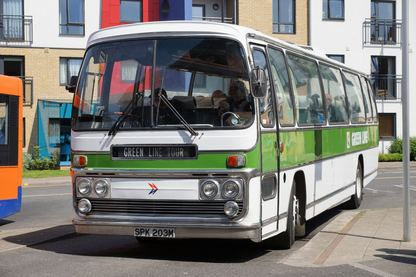bus: (63, 18, 379, 250), (0, 78, 23, 221)
